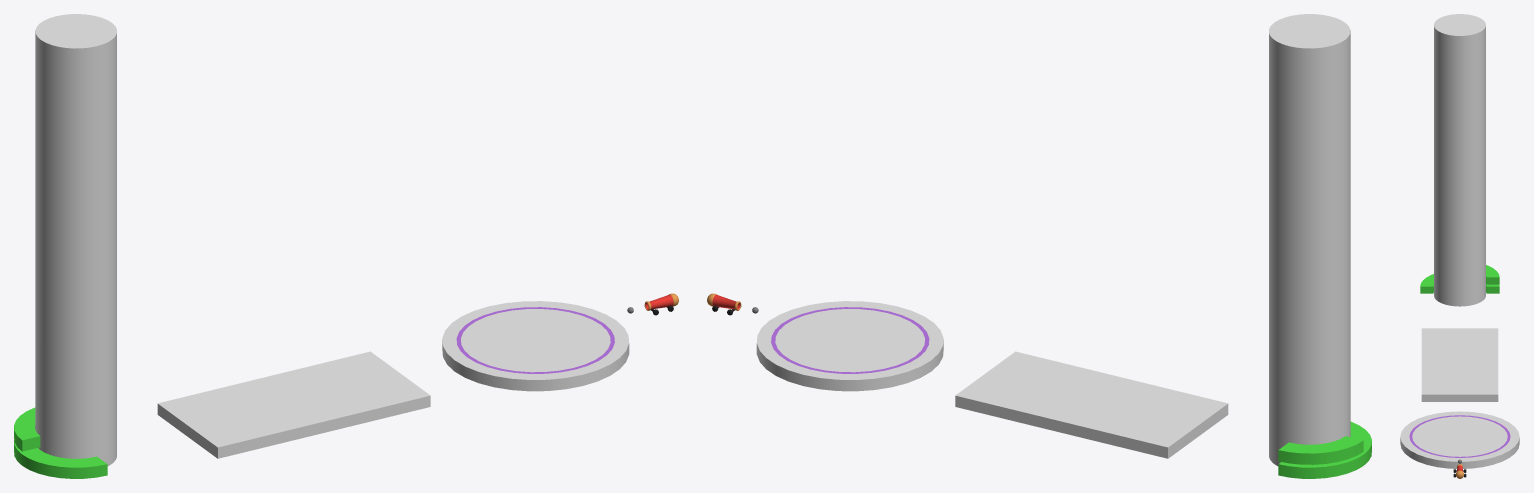
The model's file is Free Hypercasual Starter Pack.fbx.
3 views of the same model, side by side, from view 1: azimuth 30°, elevation 25°; view 2: azimuth 150°, elevation 25°; view 3: azimuth 270°, elevation 25° (orthographic). The views are drawn at different scales.
Parts seen in each view (by area): view 1: Circle Ring Pole, Path Plain Straight, Circle Rings Platform, Half Ring, 1/4 Ring; view 2: Circle Ring Pole, Path Plain Straight, Circle Rings Platform, 1/4 Ring, Half Ring; view 3: Circle Ring Pole, Path Plain Straight, Circle Rings Platform, Half Ring, 1/4 Ring, Cannon 1.
Part boxes in pixels (box(x1,y1,x2,y2)): Circle Ring Pole: box(35, 14, 116, 465); Path Plain Straight: box(157, 351, 430, 458); Circle Rings Platform: box(442, 301, 629, 391); Half Ring: box(14, 439, 107, 478); 1/4 Ring: box(14, 407, 40, 451); Circle Ring Pole: box(1269, 14, 1350, 465); Path Plain Straight: box(955, 351, 1228, 458); Circle Rings Platform: box(756, 301, 943, 391); 1/4 Ring: box(1278, 436, 1363, 464); Half Ring: box(1278, 421, 1371, 478); Circle Ring Pole: box(1434, 14, 1485, 306); Path Plain Straight: box(1421, 328, 1498, 401); Circle Rings Platform: box(1400, 411, 1519, 468); Half Ring: box(1420, 274, 1499, 293); 1/4 Ring: box(1486, 265, 1499, 284); Cannon 1: box(1453, 464, 1466, 478).
Bounding box in the file's own units: 4849 × 3060 × 1200.
